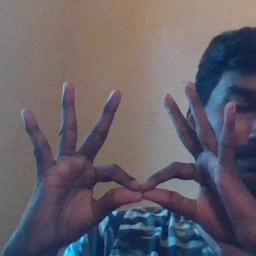B: (79, 139, 210, 229)
